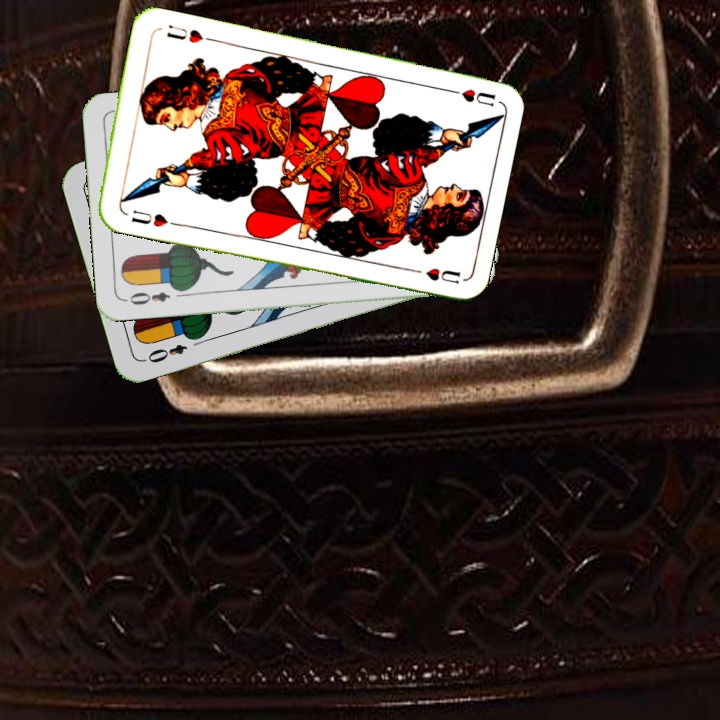EO: (139, 340, 190, 366), (121, 288, 173, 308)
HU: (440, 84, 498, 109), (127, 205, 170, 230)
